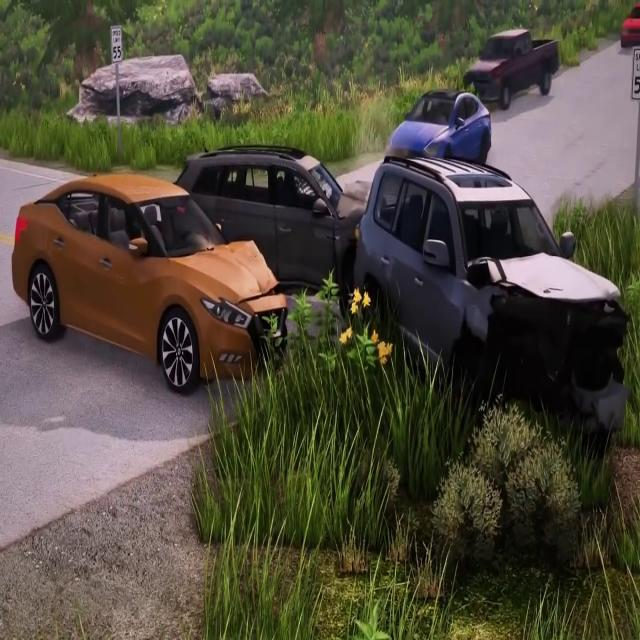accident: (208, 133, 584, 391)
